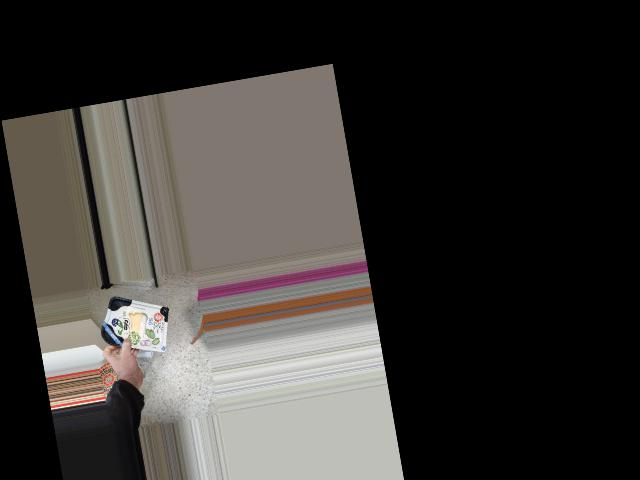cheese: (99, 297, 173, 355)
